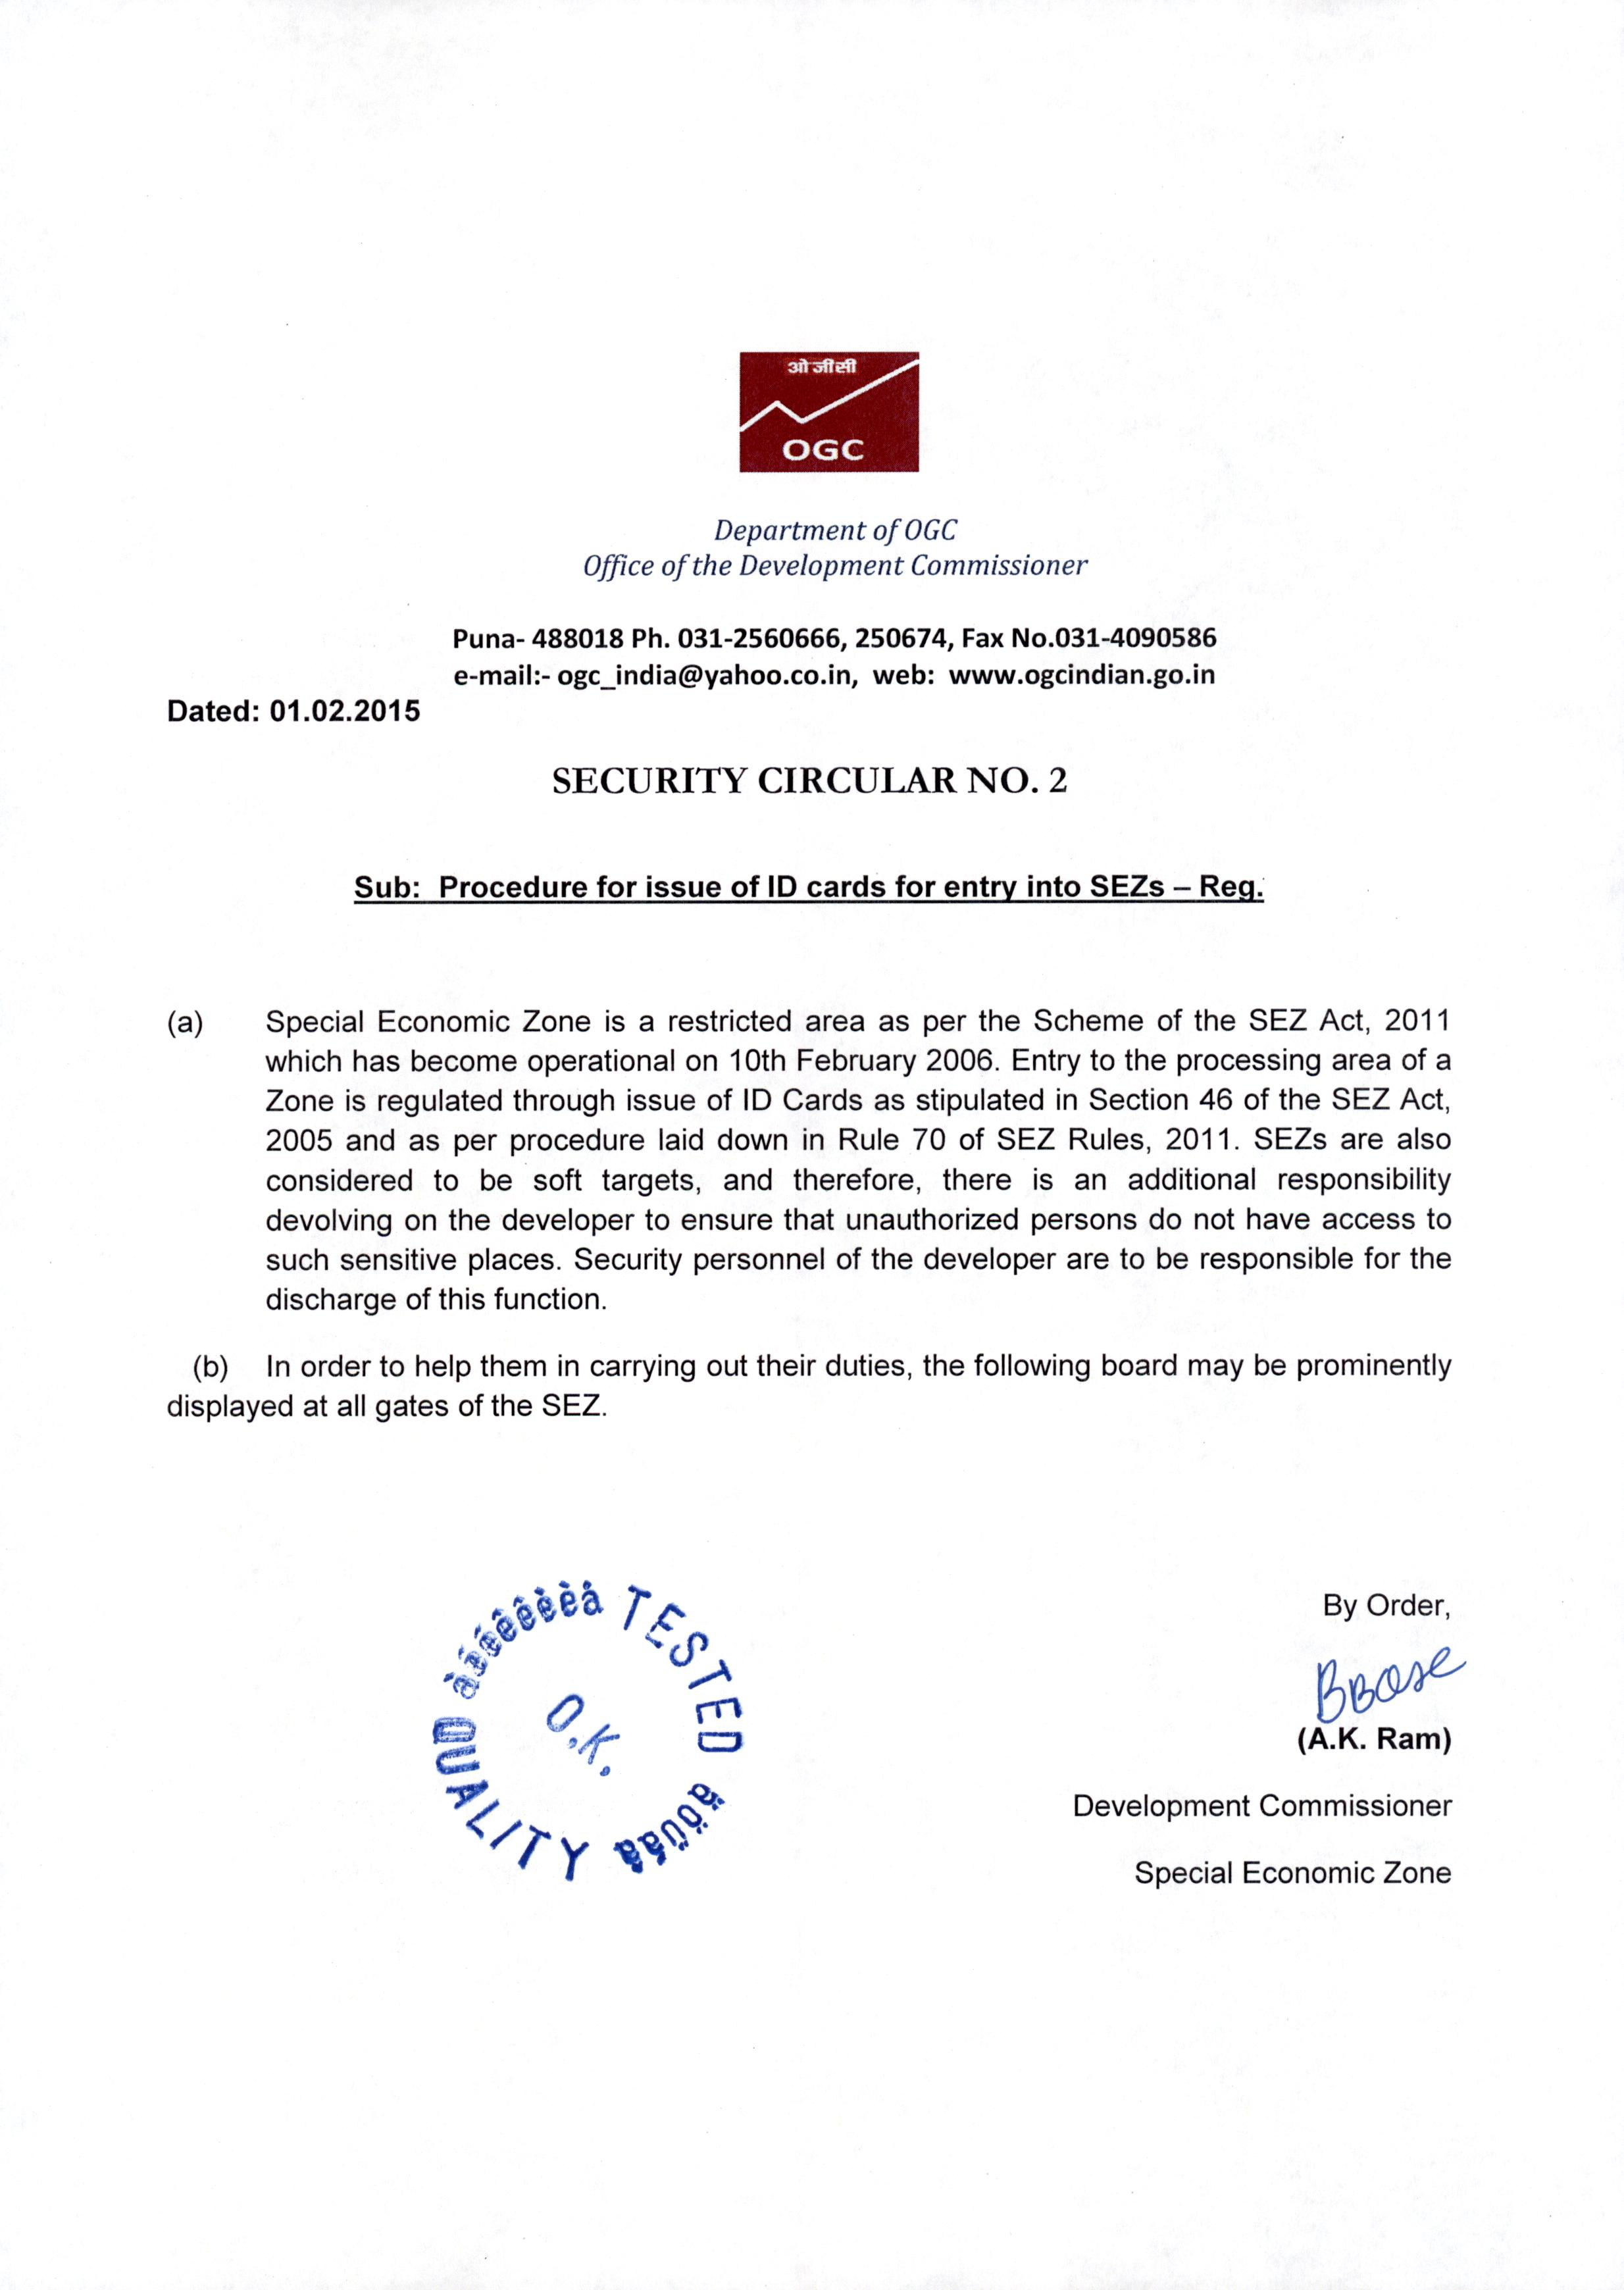Signature: (1306, 1638, 1475, 1726)
